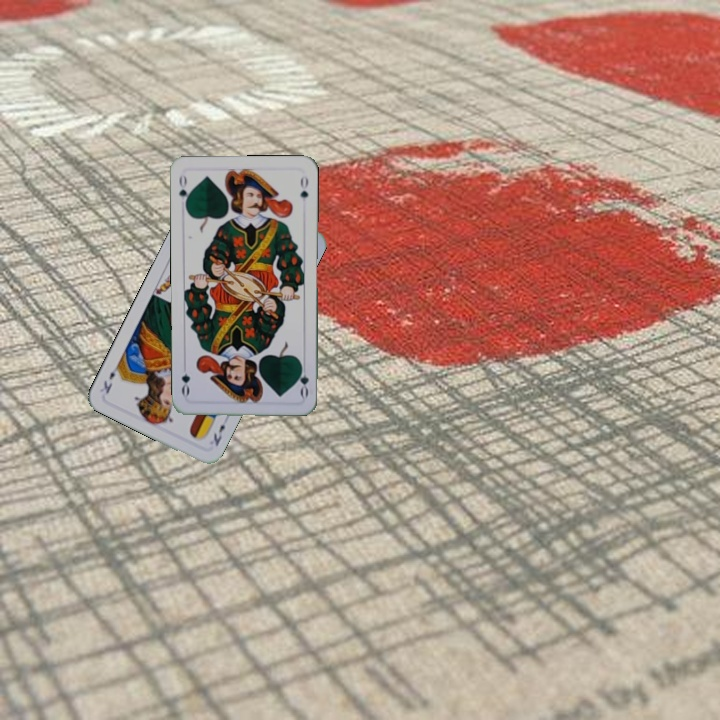EK: (209, 420, 228, 449)
GO: (175, 171, 193, 211), (295, 359, 311, 399)
